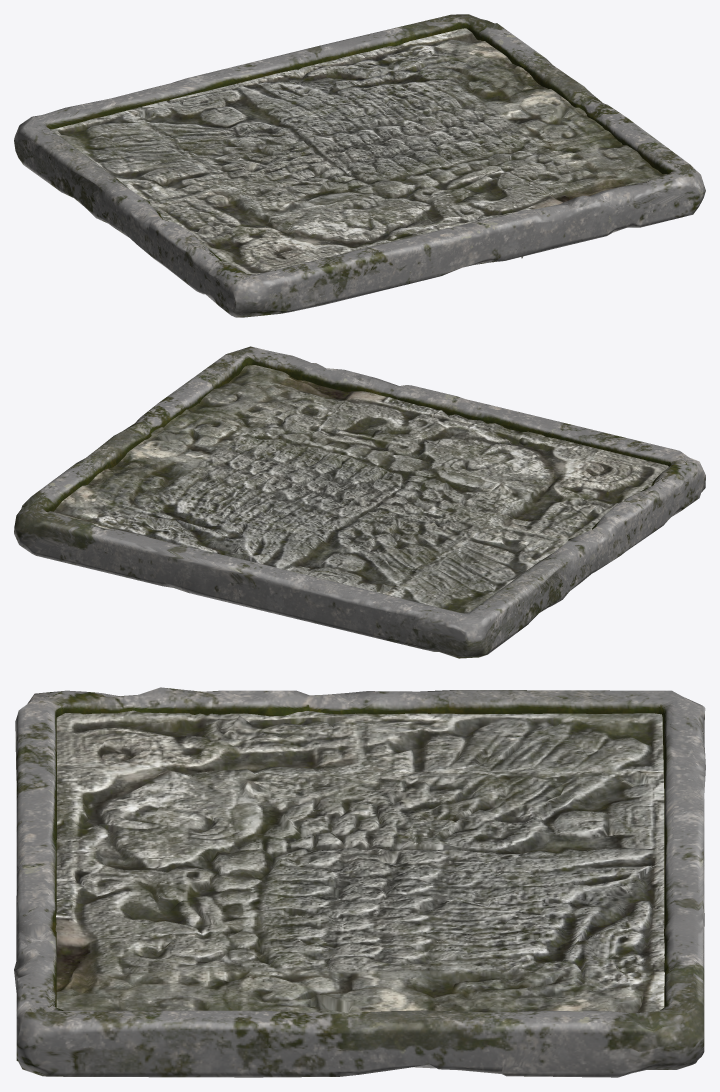
The model's file is SM_Wall_Aztec_B.fbx.
The picture shows the model from 3 angles, top to bottom: view 1: azimuth 30°, elevation 25°; view 2: azimuth 150°, elevation 25°; view 3: azimuth 270°, elevation 25°; orthographic projection. The views are drawn at different scales.
Visible parts, largest first — view 1: SM_Wall_Aztec_B_LOD0; view 2: SM_Wall_Aztec_B_LOD0; view 3: SM_Wall_Aztec_B_LOD0.
Part boxes in pixels (x1,y1,x2,y2): SM_Wall_Aztec_B_LOD0: [14, 14, 705, 317]; SM_Wall_Aztec_B_LOD0: [14, 346, 705, 658]; SM_Wall_Aztec_B_LOD0: [14, 687, 705, 1077].
Size of the model in its own units: 60.01 by 51.76 by 6.98.
